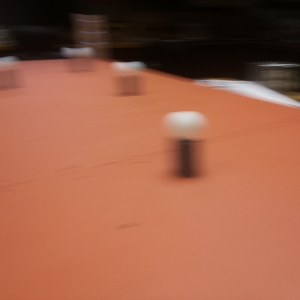obstacle: (163, 105, 208, 179), (115, 59, 142, 95)
